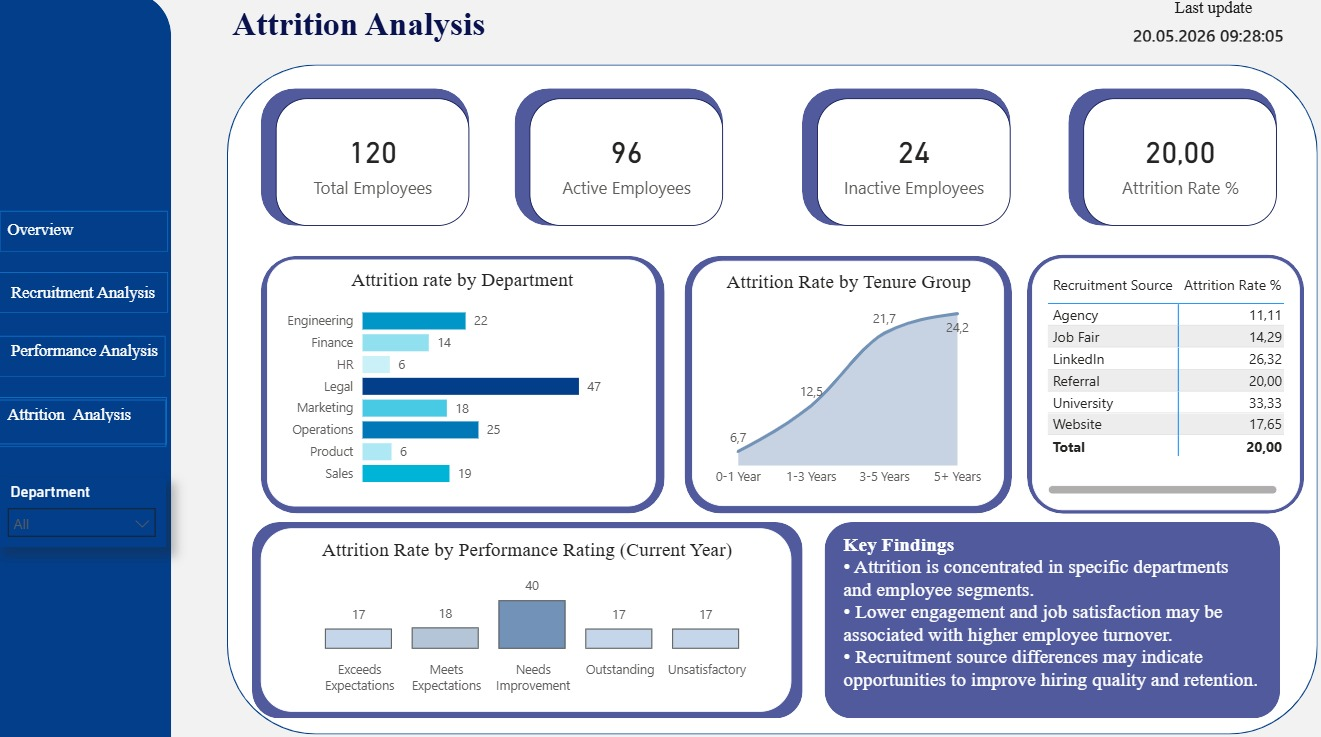

What the dashboard file says about the page in this screenshot:
{"tool":"powerbi","page":{"name":"Page 1","canvas":[1280,720],"ordinal":0},"visuals":[{"type":"shape","box":[220,69.4,1045.9,642.4],"z":0},{"type":"shape","box":[0,0,167.1,721.2],"z":1000},{"type":"textbox","box":[8.2,274.1,184.7,34.1],"z":30000},{"type":"textbox","box":[8.2,329.4,167.1,44.7],"z":31000},{"type":"textbox","box":[8.2,395.3,184.7,47.1],"z":32000},{"type":"textbox","box":[4.7,390.6,167.1,44.7],"z":33000},{"type":"shape","box":[2.4,209.7,161.8,39.6],"z":51000},{"type":"textbox","box":[4.3,213.5,145.7,39],"z":52000},{"type":"shape","box":[0,268.5,164.2,39.6],"z":53000},{"type":"shape","box":[0,329.6,161.8,39.6],"z":54000},{"type":"shape","box":[0,390.6,162.4,45.9],"z":56000},{"type":"shape","box":[0,388.3,163,45.5],"z":61000},{"type":"cardVisual","title":"Last update","fields":{"Rows":["Query1.Column1"]},"box":[1052.4,6.1,228,101.2],"z":62000},{"type":"shape","box":[252.9,92.3,200.1,131.8],"z":63000},{"type":"card","fields":{"Values":["Employee Data.Total Employees"]},"box":[267.3,101.9,185.8,122.2],"z":64000},{"type":"shape","box":[771.8,92.3,200.1,131.8],"z":65000},{"type":"shape","box":[496.2,92.3,200.1,131.8],"z":66000},{"type":"shape","box":[1027.1,92.3,200.1,131.8],"z":67000},{"type":"card","fields":{"Values":["Employee Data.Active Employees"]},"box":[510.6,101.9,185.8,122.2],"z":68000},{"type":"card","fields":{"Values":["Employee Data.Inactive Employees"]},"box":[786.2,101.9,185.8,122.2],"z":69000},{"type":"card","fields":{"Values":["Employee Data.Attrition Rate %"]},"box":[1041.5,101.9,185.8,122.2],"z":70000},{"type":"shape","box":[252.5,252.5,387.5,247.2],"z":71000},{"type":"clusteredBarChart","title":"Attrition rate by Department","fields":{"Category":["Employee Data.Department"],"Y":["Employee Data.Attrition Rate %"]},"box":[259.2,256.5,372.8,236.5],"z":72000},{"type":"shape","box":[658.7,252.5,314,247.2],"z":73000},{"type":"shape","box":[244.5,507.7,528,188.4],"z":74000},{"type":"lineChart","title":"Attrition Rate by Tenure Group","fields":{"Category":["Employee Data.Tenure Group"],"Y":["Employee Data.Attrition Rate %"]},"box":[666.7,257.9,299.3,235.2],"z":75000},{"type":"shape","box":[987.4,251.2,265.9,248.5],"z":76000},{"type":"pivotTable","fields":{"Rows":["Employee Data.Recruitment Source"],"Values":["Employee Data.Attrition Rate %"]},"box":[992.7,255.2,256.5,241.8],"z":77000},{"type":"columnChart","title":"Attrition Rate by Performance Rating (Current Year)","fields":{"Category":["Employee Data.Performance Rating (Current Year)"],"Y":["Employee Data.Attrition Rate %"]},"box":[252.5,514.4,509.1,176.4],"z":78000},{"type":"textbox","box":[220.5,6.7,503.7,62.8],"z":79000},{"type":"shape","box":[793.7,507.7,436.9,188.4],"z":80000},{"type":"textbox","box":[807,514.4,410.2,183],"z":81000},{"type":"slicer","fields":{"Values":["Employee Data.Department"]},"box":[0,466.3,161.7,65.5],"z":82000}]}

Visuals, with their boxes in screenshot pixels (x1, y1, x2, y2):
shape: left=223, top=59, right=1316, bottom=730
shape: left=0, top=0, right=168, bottom=736
textbox: left=2, top=273, right=195, bottom=308
textbox: left=2, top=331, right=176, bottom=377
textbox: left=2, top=399, right=195, bottom=449
textbox: left=0, top=395, right=173, bottom=441
shape: left=0, top=205, right=165, bottom=247
textbox: left=0, top=209, right=150, bottom=250
shape: left=0, top=267, right=165, bottom=308
shape: left=0, top=331, right=162, bottom=372
shape: left=0, top=395, right=163, bottom=443
shape: left=0, top=392, right=164, bottom=440
"Last update" cardVisual: left=1093, top=0, right=1320, bottom=98
shape: left=258, top=83, right=467, bottom=221
card - Employee Data.Total Employees: left=273, top=93, right=467, bottom=221
shape: left=800, top=83, right=1009, bottom=221
shape: left=512, top=83, right=721, bottom=221
shape: left=1067, top=83, right=1276, bottom=221
card - Employee Data.Active Employees: left=527, top=93, right=721, bottom=221
card - Employee Data.Inactive Employees: left=815, top=93, right=1009, bottom=221
card - Employee Data.Attrition Rate %: left=1082, top=93, right=1276, bottom=221
shape: left=257, top=250, right=662, bottom=509
"Attrition rate by Department" clusteredBarChart: left=264, top=254, right=654, bottom=502
shape: left=682, top=250, right=1010, bottom=509
shape: left=249, top=517, right=801, bottom=714
"Attrition Rate by Tenure Group" lineChart: left=690, top=256, right=1003, bottom=502
shape: left=1025, top=249, right=1303, bottom=509
pivotTable - Employee Data.Recruitment Source x Employee Data.Attrition Rate %: left=1031, top=253, right=1299, bottom=506
"Attrition Rate by Performance Rating (Current Year)" columnChart: left=257, top=524, right=789, bottom=708
textbox: left=224, top=0, right=750, bottom=59
shape: left=823, top=517, right=1280, bottom=714
textbox: left=837, top=524, right=1266, bottom=715
slicer - Employee Data.Department: left=0, top=474, right=162, bottom=542
